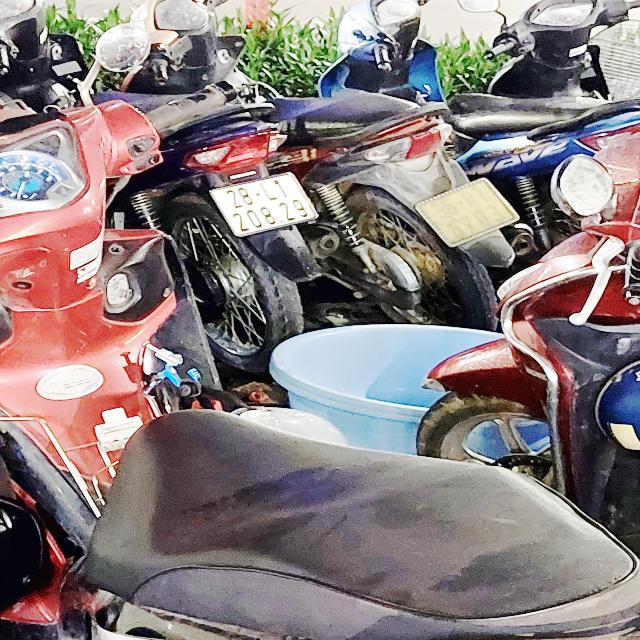license_plate: (210, 172, 320, 237), (420, 180, 519, 246)
